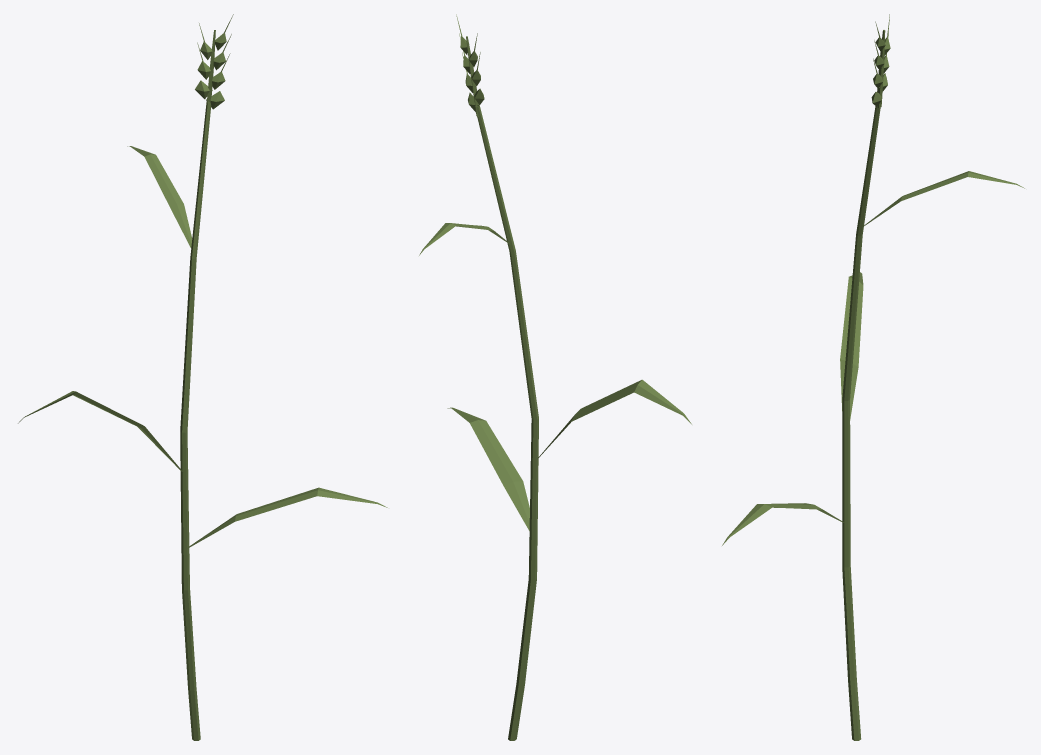
File: wheat_C.glb
The picture shows the model from 3 angles, left to right: view 1: azimuth 30°, elevation 25°; view 2: azimuth 150°, elevation 25°; view 3: azimuth 270°, elevation 25°; orthographic projection. The views are drawn at different scales.
Visible parts, largest first — view 1: mesh_wheat_C; view 2: mesh_wheat_C; view 3: mesh_wheat_C.
Part boxes in pixels (bbox=[...]): mesh_wheat_C: bbox=[18, 14, 387, 740]; mesh_wheat_C: bbox=[419, 14, 691, 740]; mesh_wheat_C: bbox=[722, 14, 1024, 740].
Bounding box in the file's own units: 0.4579 × 1 × 0.3744.
